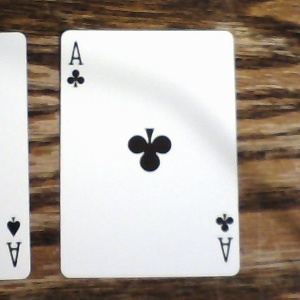card: (58, 27, 242, 277)
